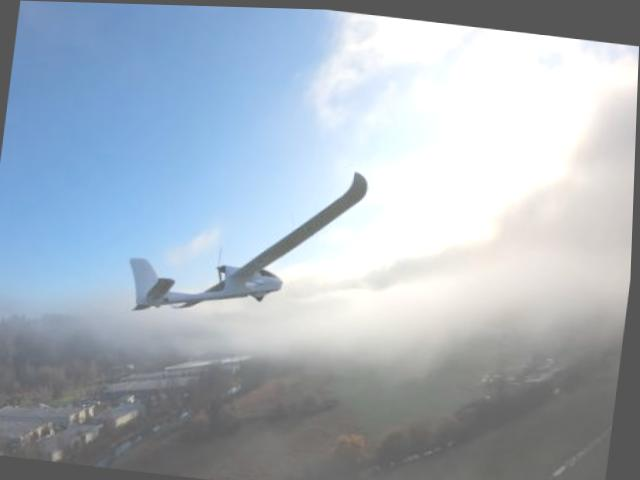uav: (118, 137, 382, 342)
